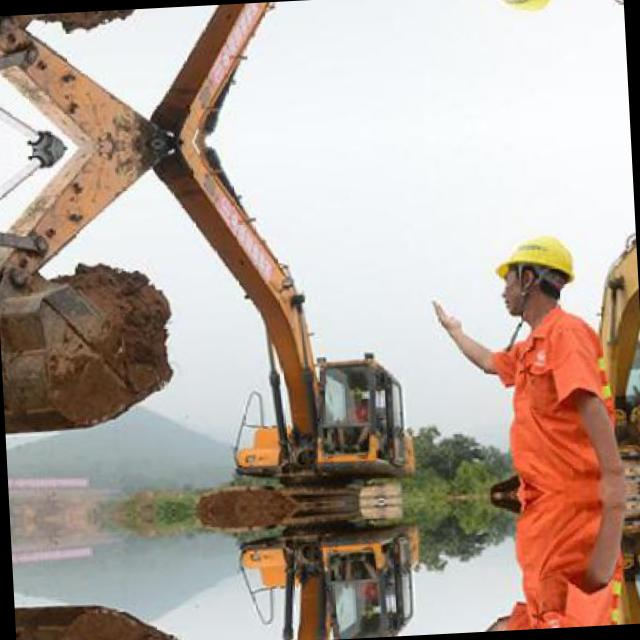helmet: (492, 219, 588, 324), (478, 0, 572, 26)
